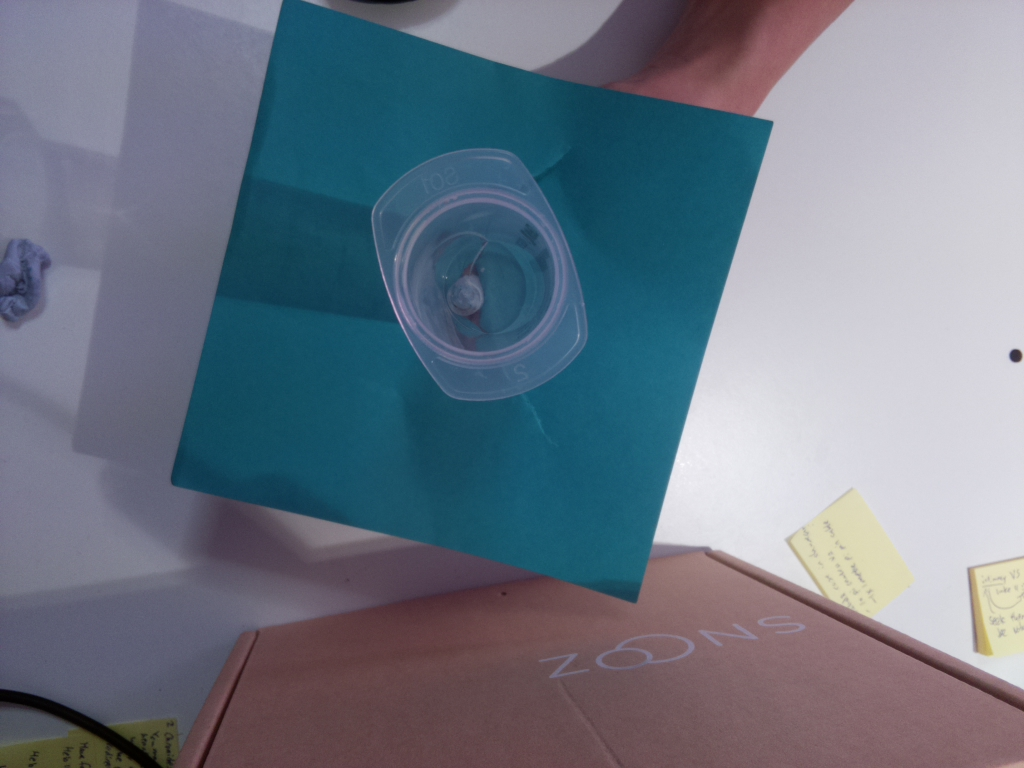clean: (368, 147, 590, 403)
